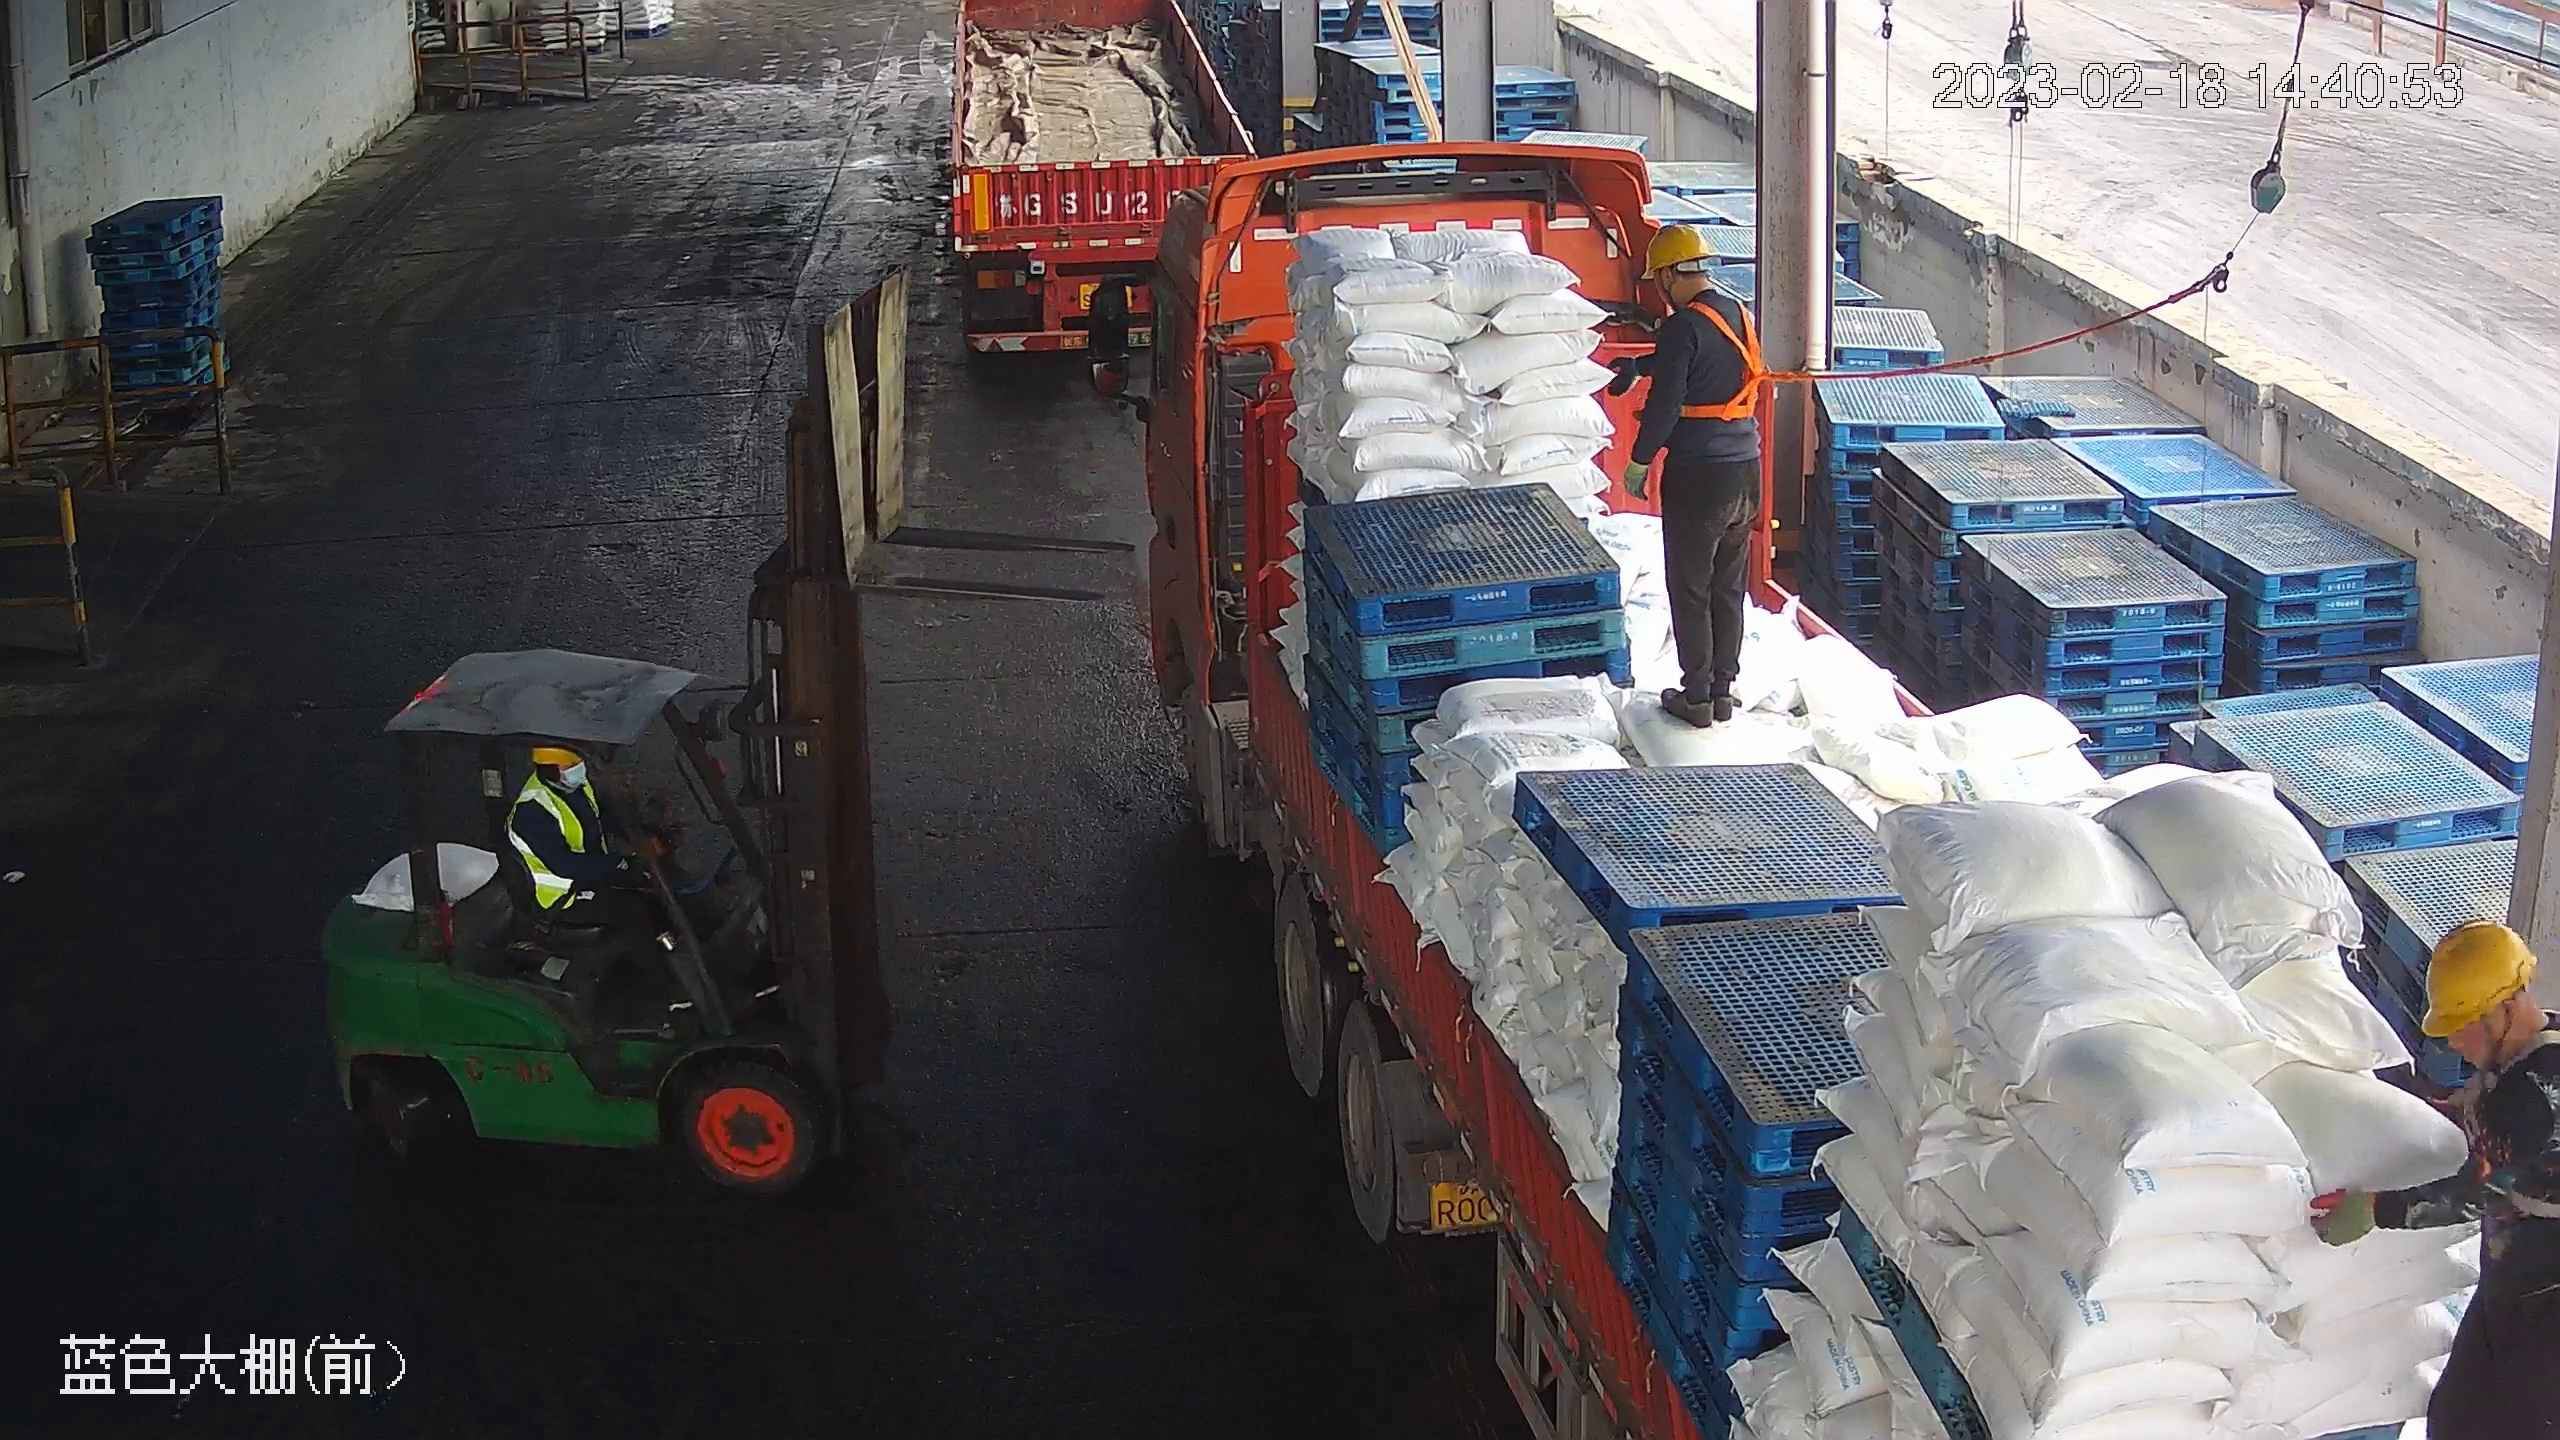belt: (2474, 1030, 2560, 1222), (1675, 291, 1775, 426)
head: (2416, 918, 2560, 1171), (1618, 225, 1772, 378), (508, 743, 604, 845)
helmet: (2417, 920, 2541, 1039), (1644, 220, 1714, 283)
people: (2308, 918, 2560, 1436), (1617, 222, 1781, 733), (511, 740, 697, 1009)
truck: (1090, 127, 2558, 1440), (934, 4, 1271, 386)
